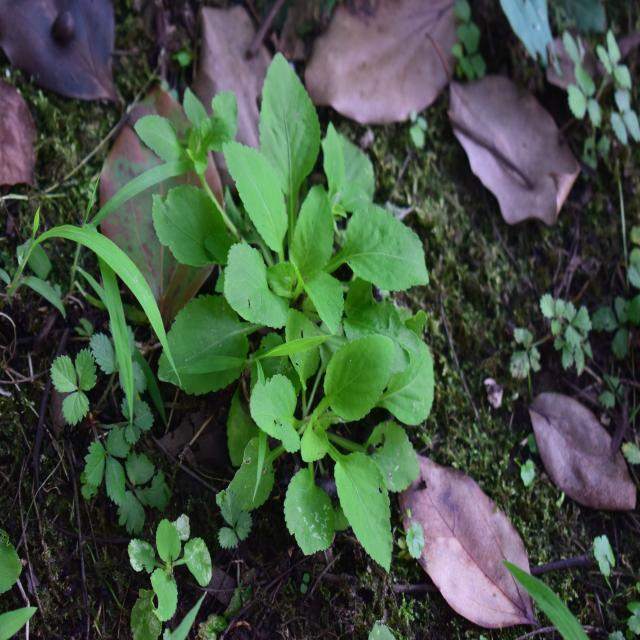Viola: (206, 94, 456, 542)
